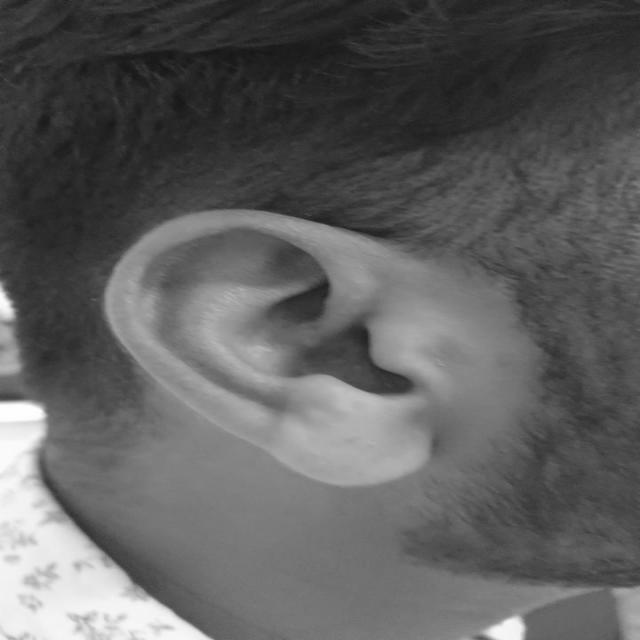ear: (106, 210, 535, 485)
